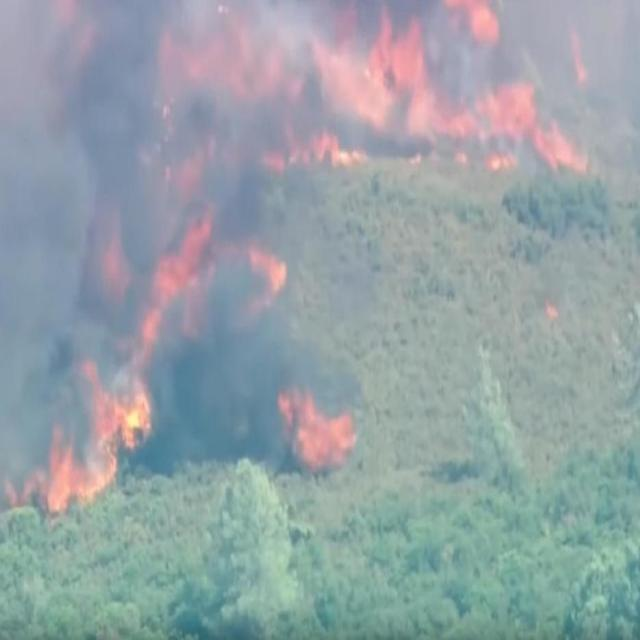Fire: (316, 34, 566, 168), (130, 205, 212, 344), (5, 445, 118, 516), (78, 352, 154, 457), (280, 384, 350, 476), (254, 248, 288, 297)
Smoke: (8, 26, 110, 330), (160, 29, 306, 152)
